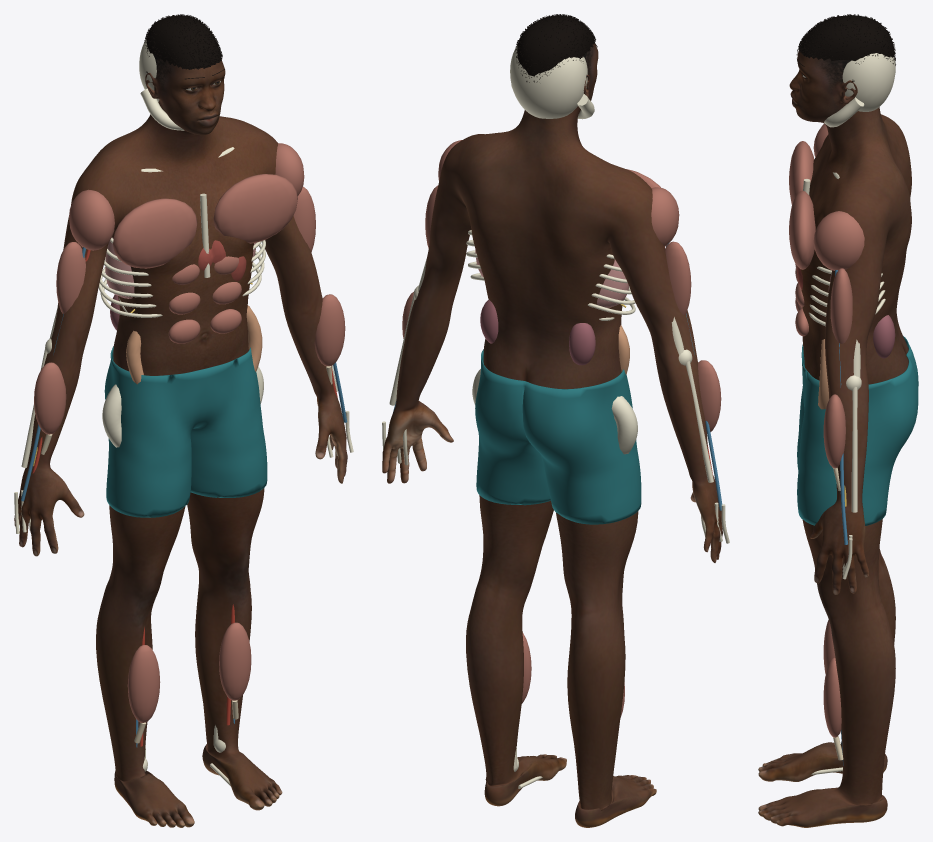
The model's file is MQ_human_anatomy.glb.
3 views of the same model, side by side, from view 1: azimuth 30°, elevation 25°; view 2: azimuth 150°, elevation 25°; view 3: azimuth 270°, elevation 25° (orthographic). The views are drawn at different scales.
Parts seen in each view (by area): view 1: MQ_Skin_Skin, MQ_Muscle_Muscles, MQ_Clothing_Academy_Shorts, MQ_Bone_Bones, MQ_Face_Hair, MQ_Organs_Intestines, MQ_Organs_Lungs.006, MQ_Organs_Heart, MQ_Pipes_Veins; view 2: MQ_Skin_Skin, MQ_Clothing_Academy_Shorts, MQ_Bone_Bones, MQ_Muscle_Muscles, MQ_Face_Hair, MQ_Organs_Kidneys, MQ_Organs_Lungs.006; view 3: MQ_Skin_Skin, MQ_Muscle_Muscles, MQ_Clothing_Academy_Shorts, MQ_Bone_Bones, MQ_Face_Hair, MQ_Organs_Kidneys, MQ_Organs_Intestines, MQ_Pipes_Veins.
Part boxes in pixels (<box>): MQ_Skin_Skin: <box>14,54,347,827</box>; MQ_Muscle_Muscles: <box>34,143,345,722</box>; MQ_Clothing_Academy_Shorts: <box>104,346,267,517</box>; MQ_Bone_Bones: <box>14,39,353,786</box>; MQ_Face_Hair: <box>144,14,222,73</box>; MQ_Organs_Intestines: <box>126,305,262,384</box>; MQ_Organs_Lungs.006: <box>105,237,255,298</box>; MQ_Organs_Heart: <box>198,240,246,281</box>; MQ_Pipes_Veins: <box>21,247,347,747</box>; MQ_Skin_Skin: <box>382,43,722,827</box>; MQ_Clothing_Academy_Shorts: <box>475,349,641,524</box>; MQ_Bone_Bones: <box>382,45,729,788</box>; MQ_Muscle_Muscles: <box>402,140,721,717</box>; MQ_Face_Hair: <box>515,14,595,82</box>; MQ_Organs_Kidneys: <box>480,299,595,365</box>; MQ_Organs_Lungs.006: <box>475,249,628,307</box>; MQ_Skin_Skin: <box>758,49,911,827</box>; MQ_Muscle_Muscles: <box>789,124,864,737</box>; MQ_Clothing_Academy_Shorts: <box>797,336,918,525</box>; MQ_Bone_Bones: <box>803,53,895,774</box>; MQ_Face_Hair: <box>798,14,895,81</box>; MQ_Organs_Kidneys: <box>873,315,895,358</box>; MQ_Organs_Intestines: <box>818,339,829,409</box>; MQ_Pipes_Veins: <box>835,270,847,765</box>.
Size of the model in its own units: 0.7975 by 1.74 by 0.3237.
17 materials, 1 textured.
